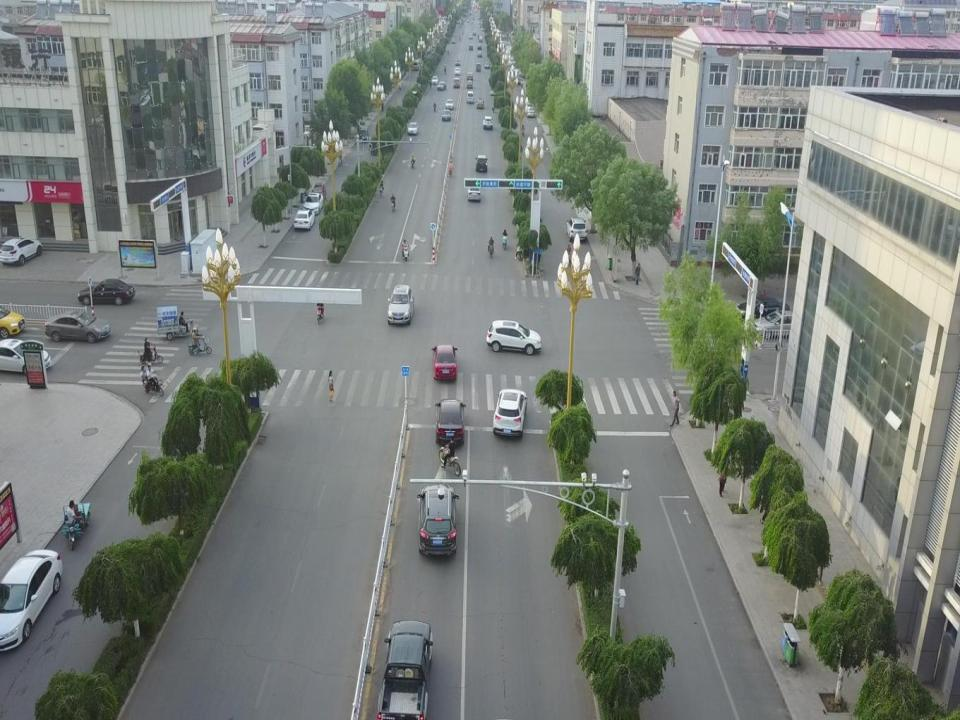car: (0, 548, 63, 655), (416, 486, 459, 558), (43, 312, 112, 344), (486, 319, 543, 357), (0, 336, 52, 376), (751, 308, 808, 340), (493, 388, 528, 438), (77, 278, 135, 306), (735, 296, 792, 324), (435, 398, 466, 447), (0, 236, 43, 266), (387, 284, 414, 325), (431, 344, 458, 382), (0, 307, 25, 339), (566, 216, 588, 244), (293, 209, 315, 231), (303, 192, 323, 216), (311, 182, 326, 202), (475, 154, 489, 172), (357, 128, 370, 143), (482, 116, 494, 131), (407, 122, 419, 136), (441, 110, 452, 122), (524, 100, 534, 112), (444, 99, 454, 110), (526, 106, 535, 118), (476, 98, 485, 108), (431, 75, 439, 86), (437, 82, 447, 90), (466, 71, 474, 81), (466, 79, 474, 89), (489, 84, 496, 95), (453, 67, 461, 75), (484, 62, 491, 70), (455, 58, 461, 66)
truck: (377, 620, 433, 720)
van: (412, 60, 421, 72), (452, 77, 460, 89), (466, 92, 474, 104), (475, 63, 482, 72)
